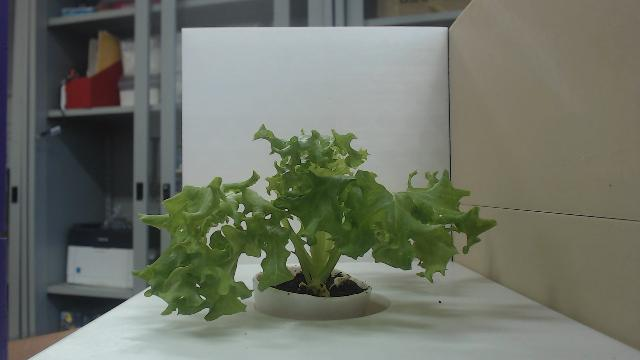Harvest Stage: (130, 123, 498, 323)
